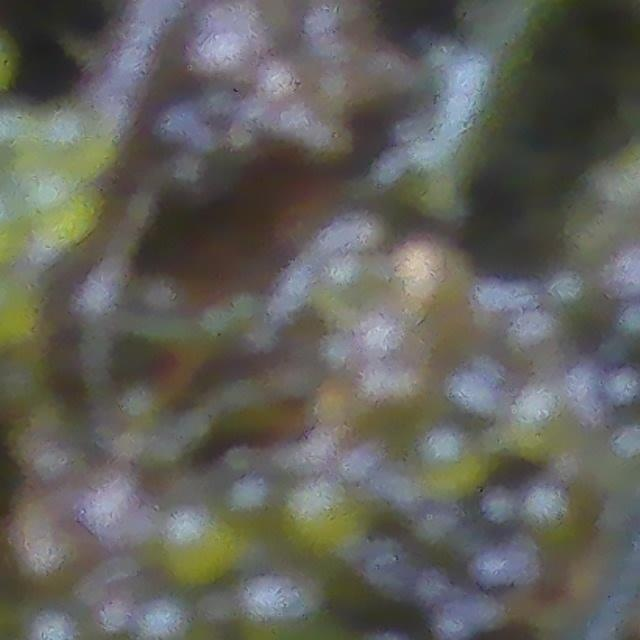SeaGrape: (242, 576, 317, 640), (166, 514, 235, 580), (300, 488, 366, 553), (0, 280, 54, 345)
